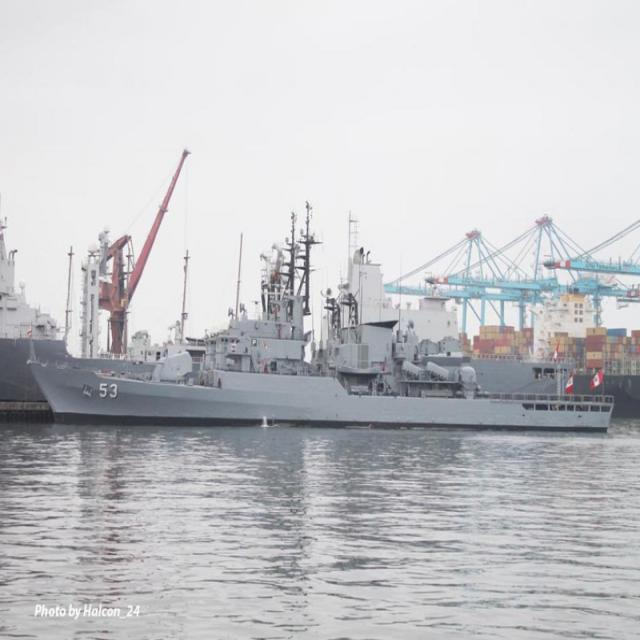Fragata: (24, 227, 616, 432)
